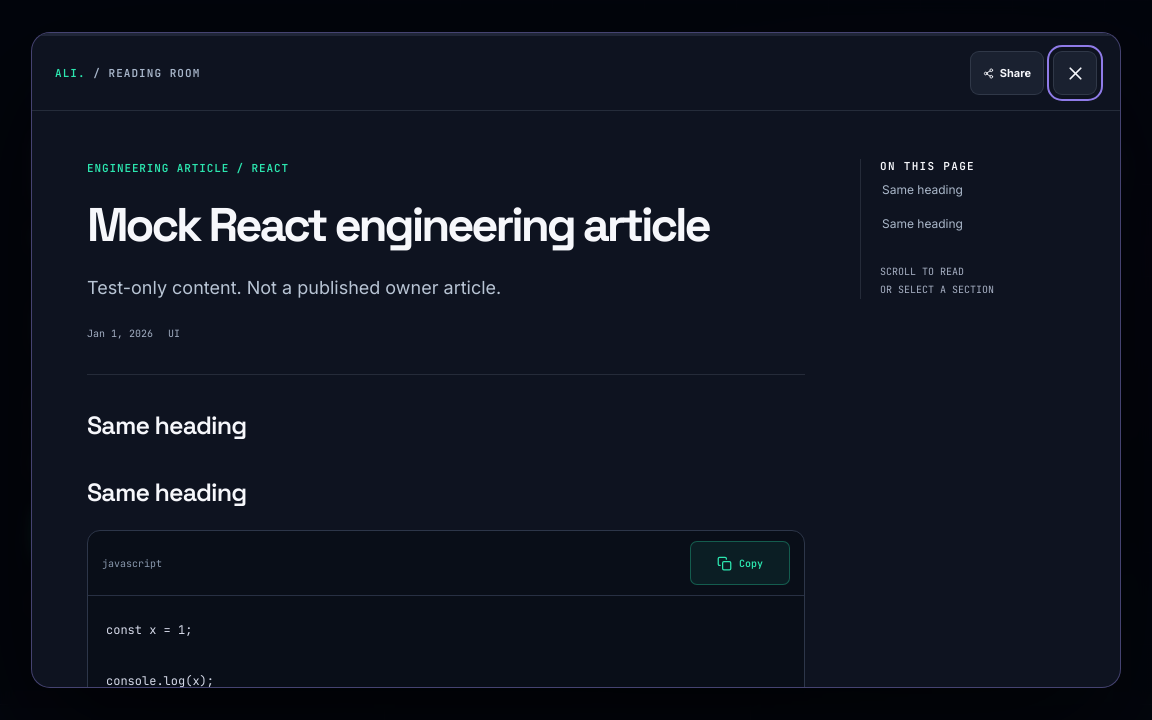
Test: Share Escape closes the panel first and keeps reader open
Click the button "Share".
click(1007, 73)  # box 970,51 -> 1044,95
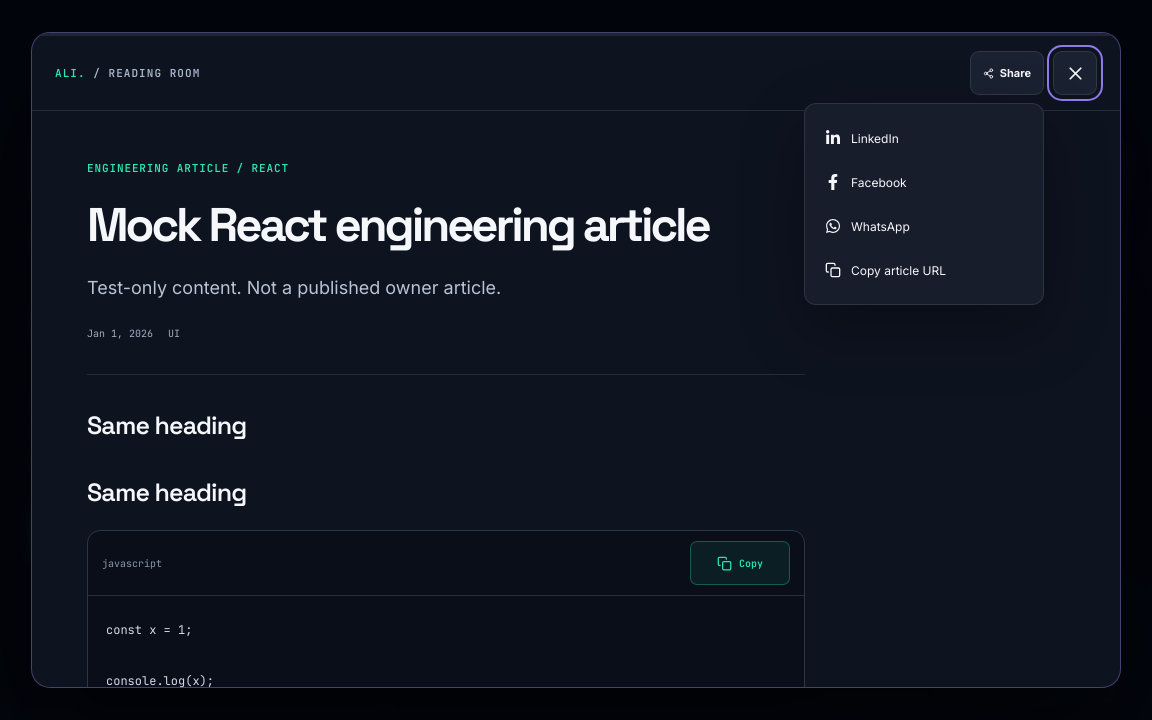
Press Escape in the button "Share", box 970,51 -> 1044,95
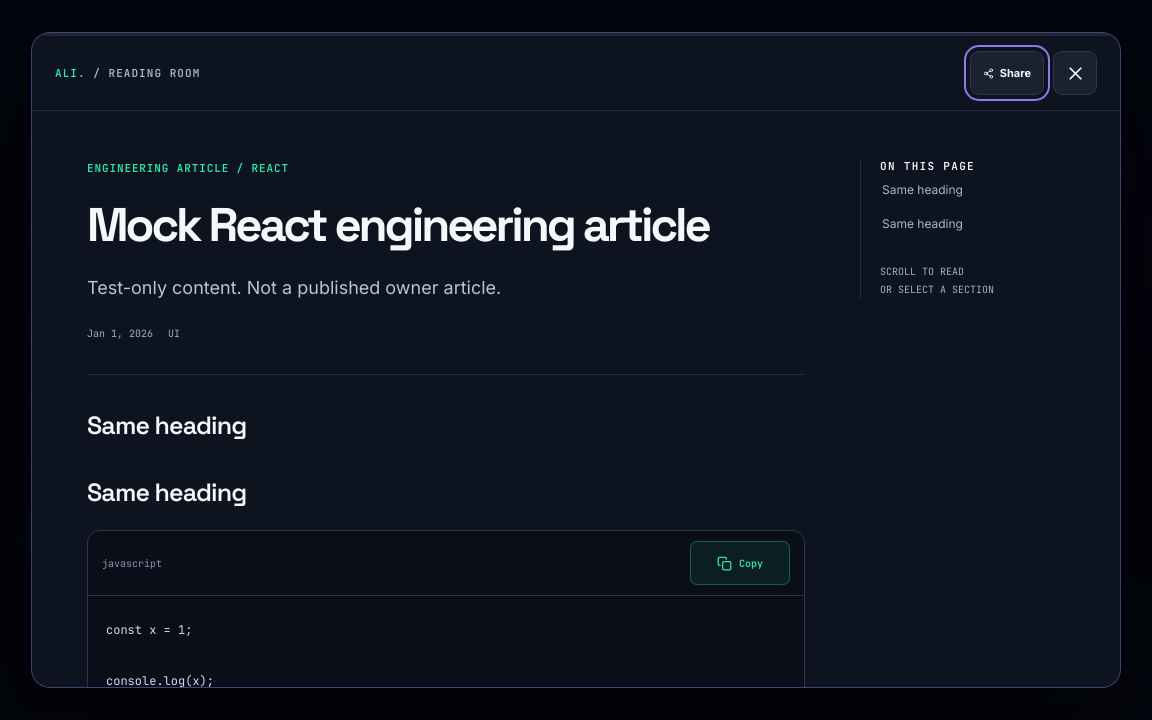
Expected: the heading "Mock React engineering article" is shown, 87,200 -> 805,252
Result: the element with class "writing-share-panel" is gone
